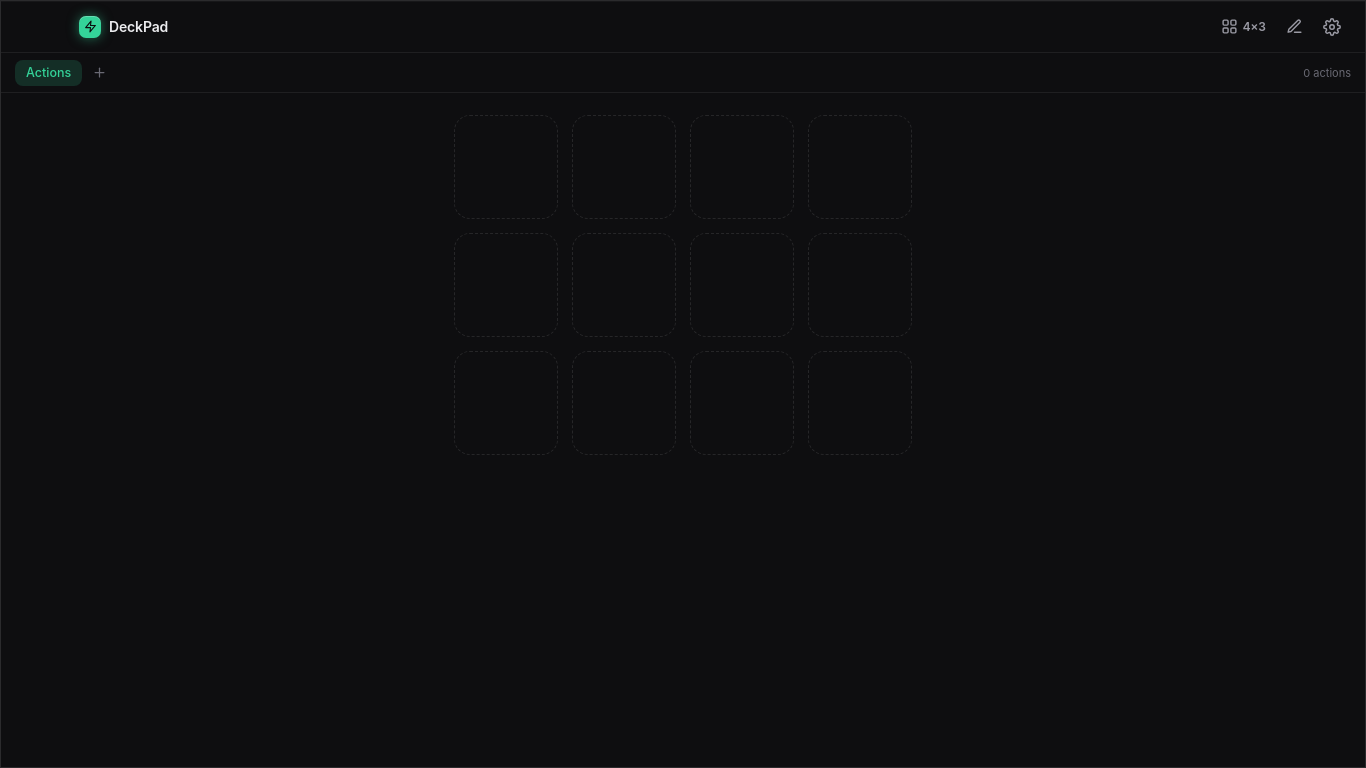
Test case: App — Settings window failure surfaces a toast › clicking the Settings button surfaces an info toast when openDialog rejects
Expected: the text "DeckPad" is shown, [109,18,168,35]
What coordinates should you click on to do the following:
click the button titled "Settings"
I would click on:
 (1332, 26)
Its box is [1315,12,1349,42].
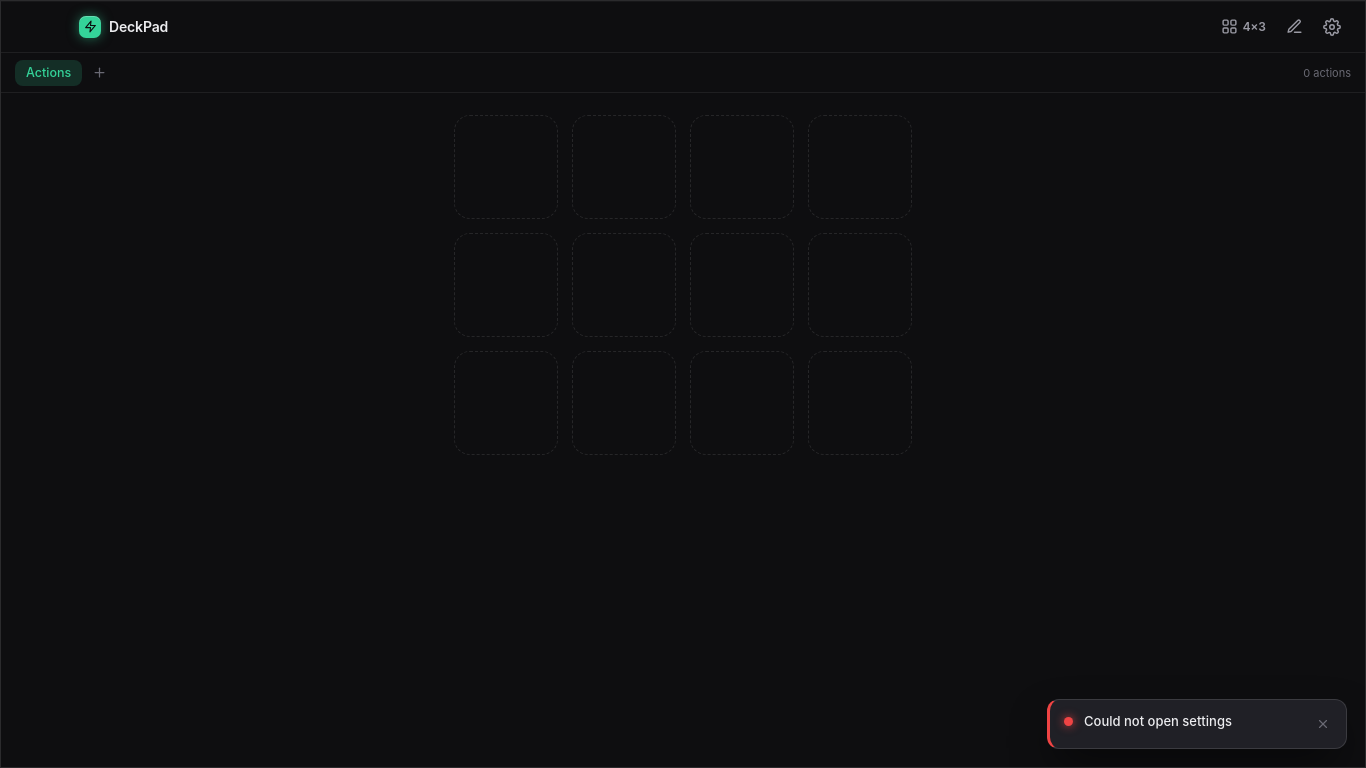
Expected: the text "Could not open settings" is shown, [1084,713,1232,729]
